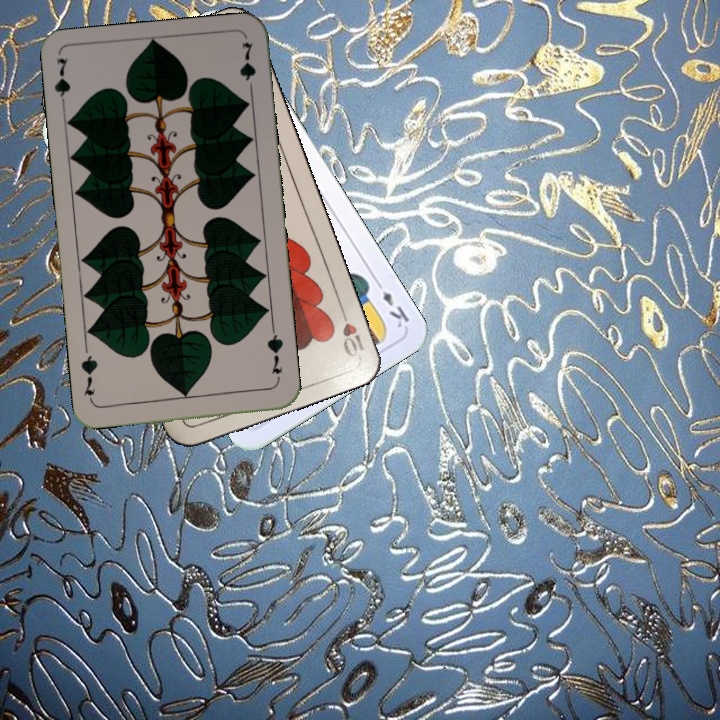EK: (370, 275, 413, 331)
G7: (50, 54, 73, 114), (263, 326, 286, 385)
H10: (336, 302, 369, 361)
